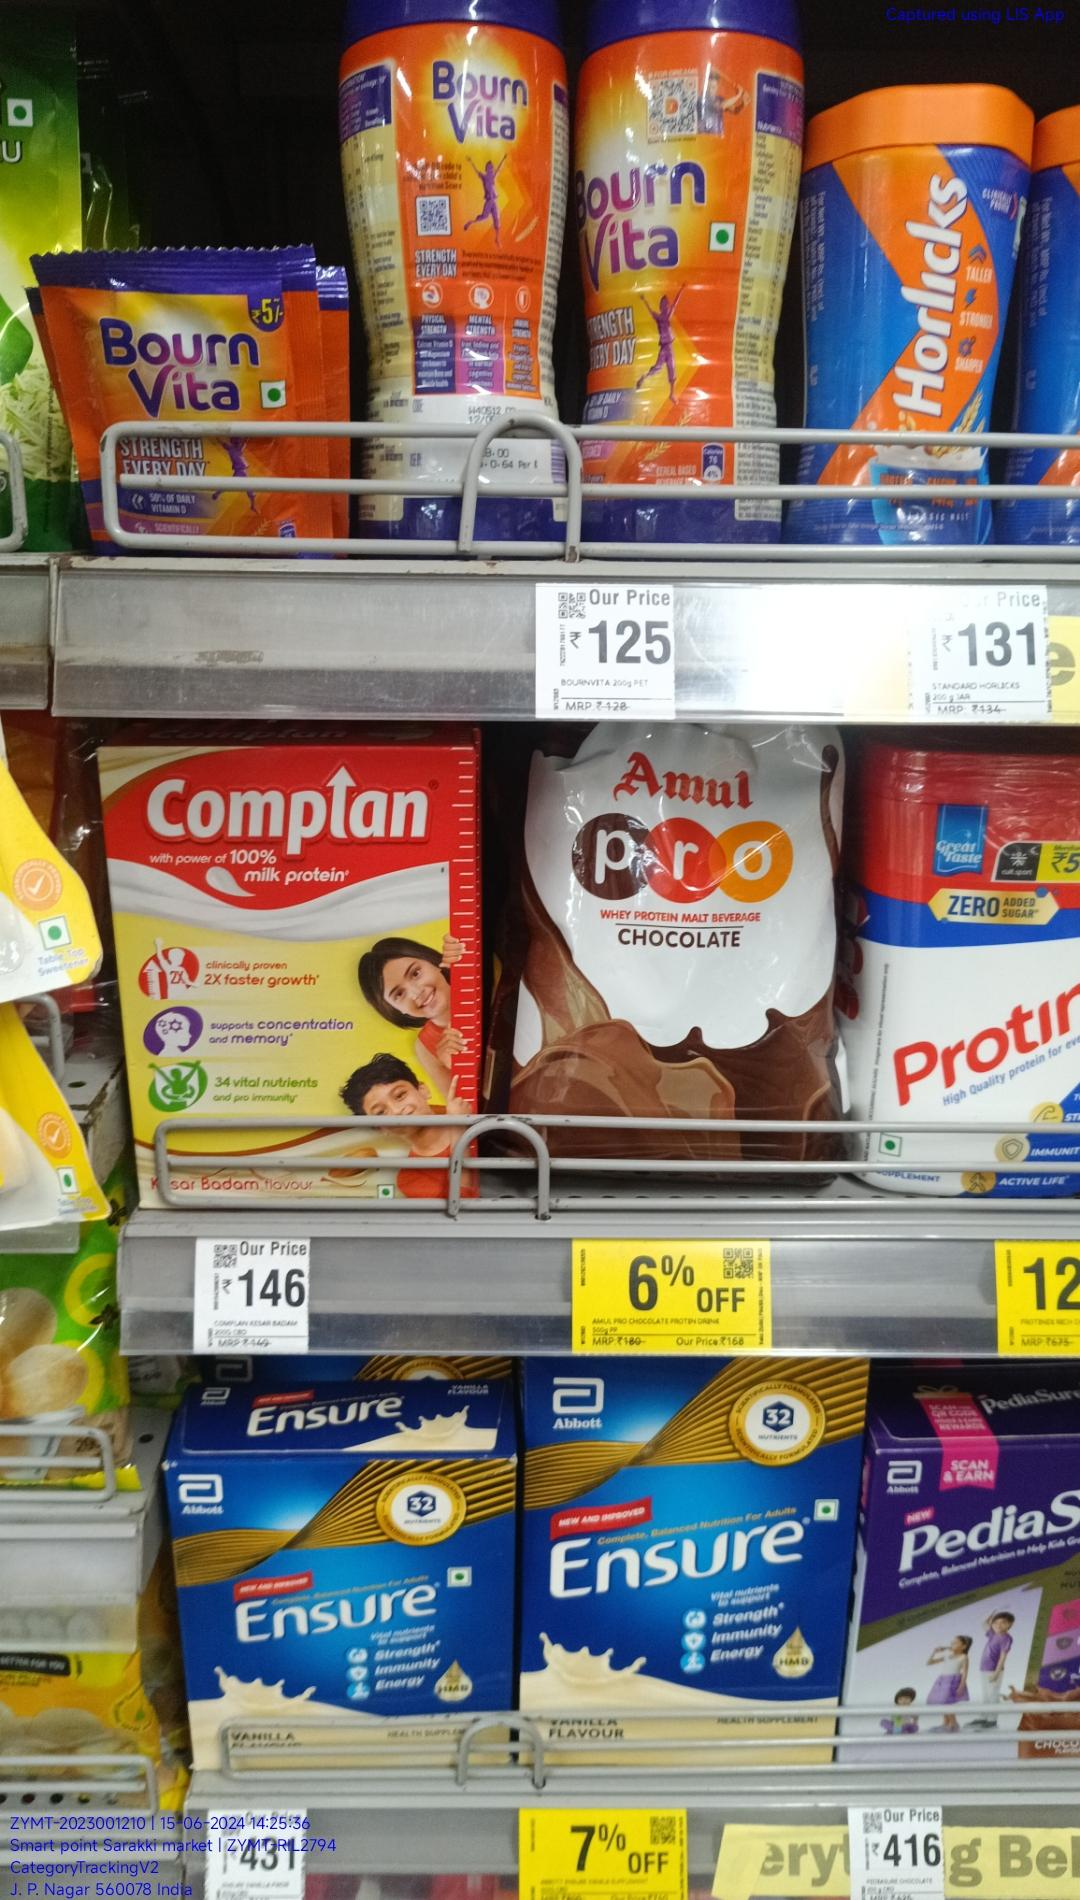BOURN_VITA_500_G_JAR: (575, 0, 789, 543)
COMPLAN_KESAR_BADAM_500_GMS_PACK: (113, 744, 473, 1197)
ENSURE_VANILLA_400_G_PACK: (175, 1450, 517, 1780)
HORLICK_CLASSIC_MALT_500_G_JAR: (809, 82, 1010, 553)
